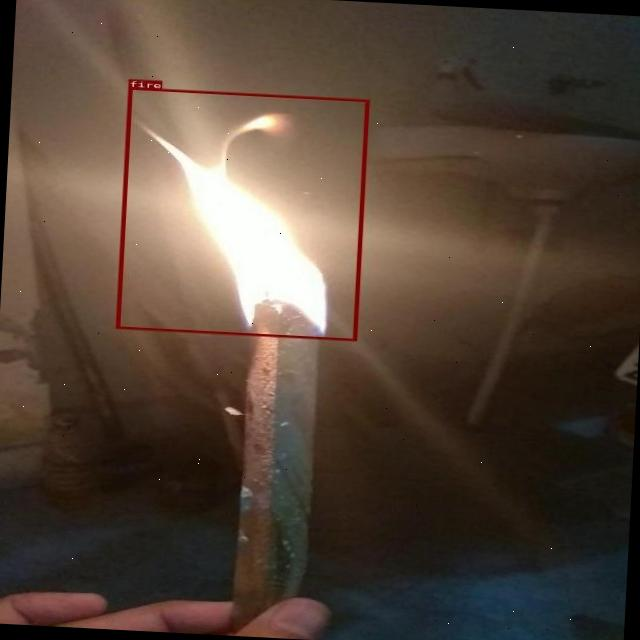fire: (115, 87, 368, 341)
